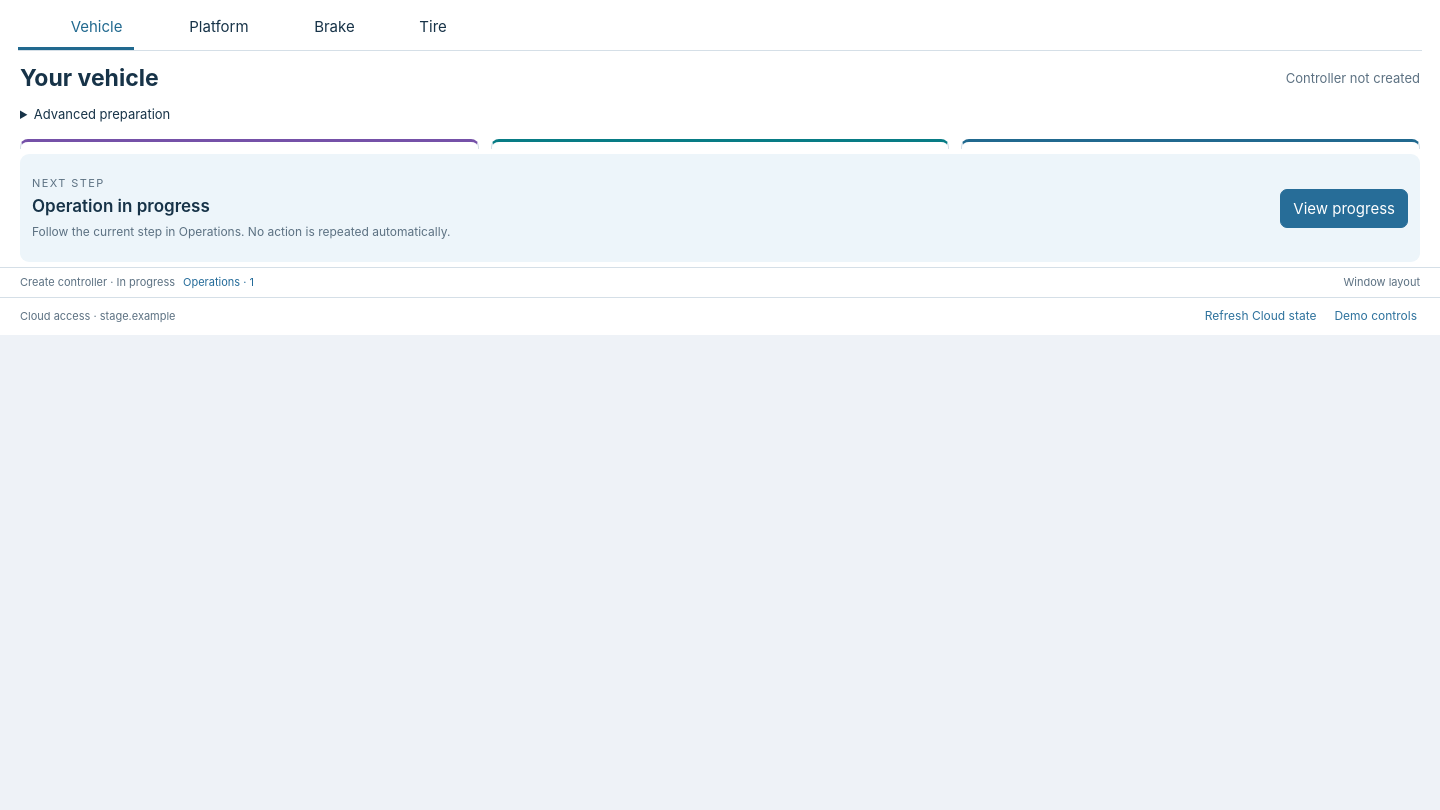
first Create Trace exposes the active job before a run identity exists
This screenshot has width=1440, height=810.
What coordinates should you click on to do the following:
click the button "View progress"
I would click on:
 (1344, 208)
Its box is [1280,189,1408,228].
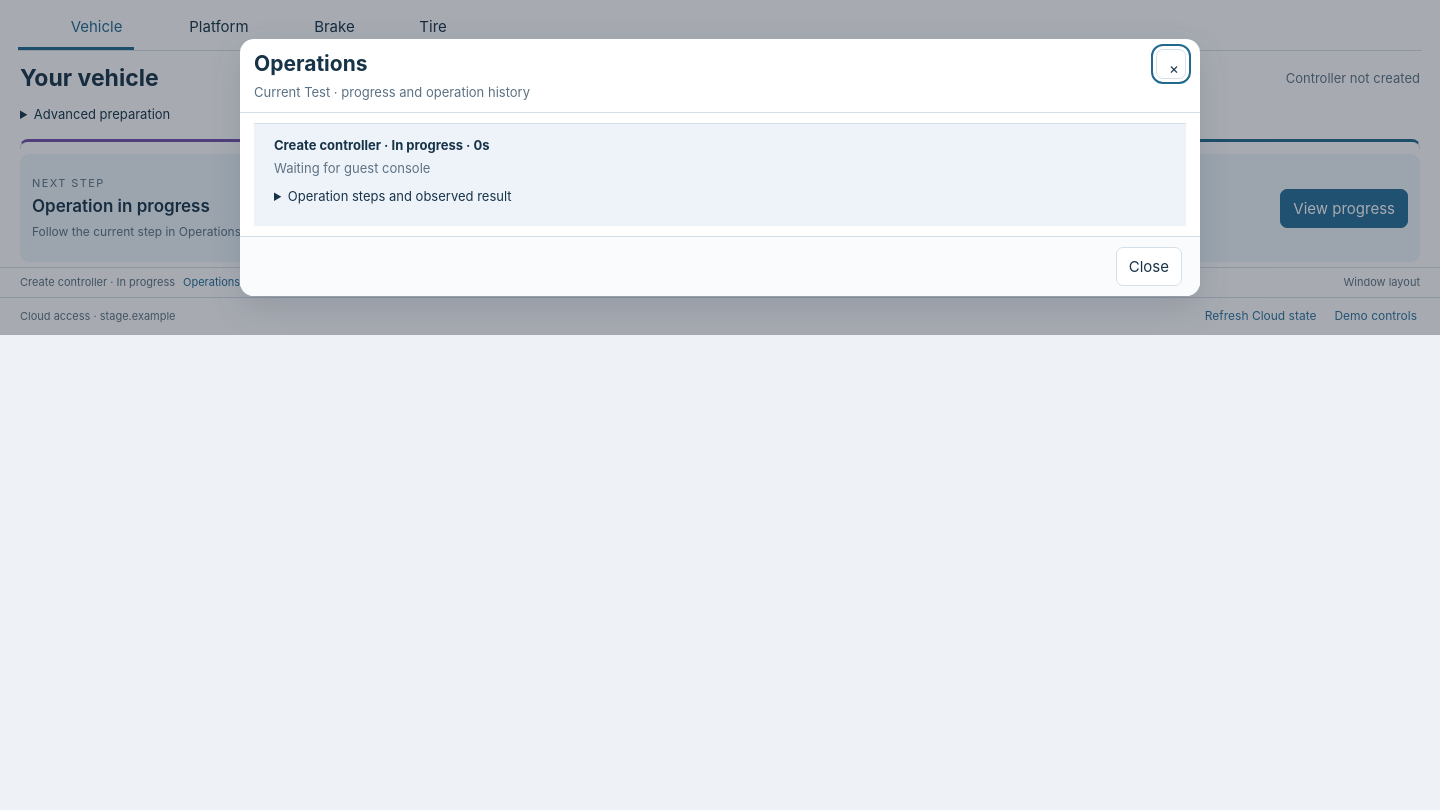
Expected: the dialog does not show "No operations recorded", [240,39,1200,296]
Now the dialog shows "Waiting for guest console", box [274,160,430,176]
